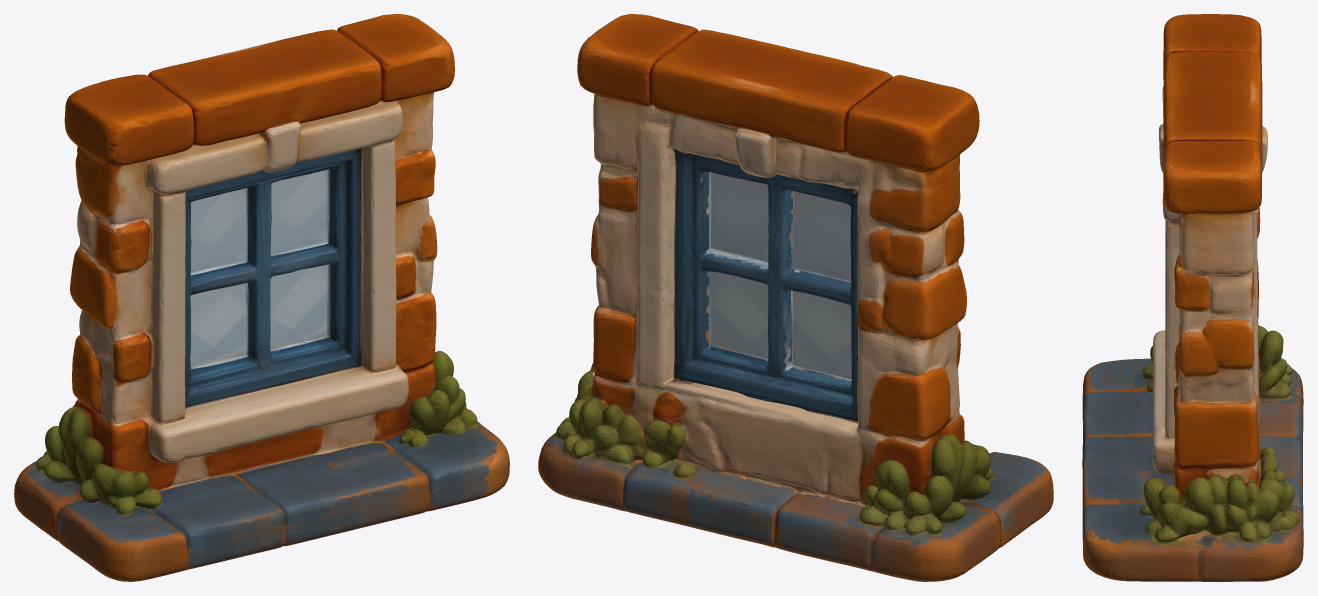
Rendered from mvp-window.glb.
3 views of the same model, side by side, from view 1: azimuth 30°, elevation 25°; view 2: azimuth 150°, elevation 25°; view 3: azimuth 270°, elevation 25° (orthographic). The views are drawn at different scales.
Parts seen in each view (by area): view 1: textured_mesh.obj; view 2: textured_mesh.obj; view 3: textured_mesh.obj.
Part boxes in pixels (x1,y1,x2,y2): textured_mesh.obj: (14,14,509,581); textured_mesh.obj: (538,14,1053,581); textured_mesh.obj: (1082,14,1303,581).
Bounding box in the file's own units: 1.99 × 1.98 × 0.9806.
1 material, 1 textured.
